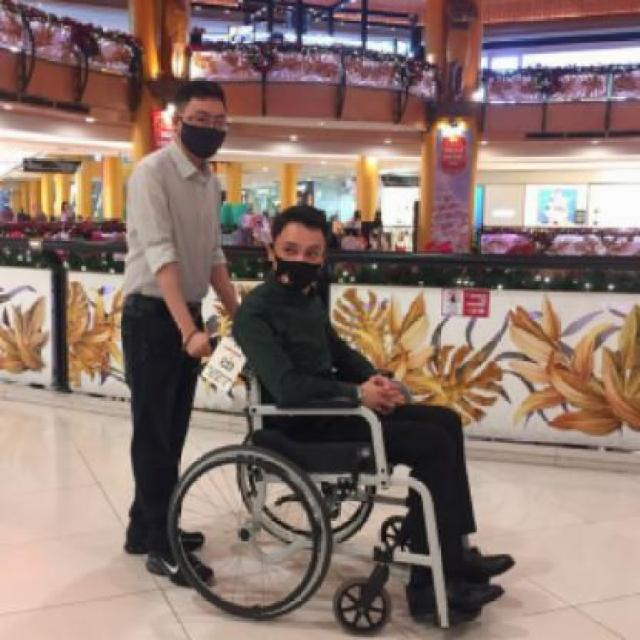wheelchairs: (168, 331, 488, 633)
